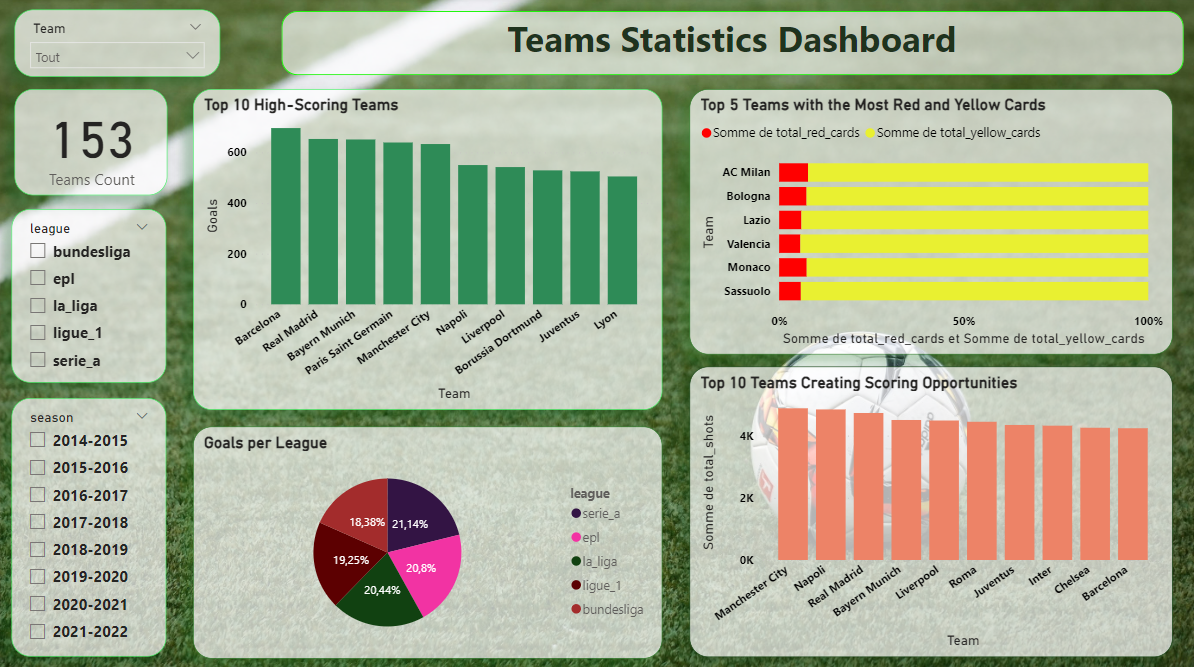

This screenshot's page, from the dashboard's own definition file:
{"tool":"powerbi","page":{"name":"Teams","canvas":[1280,720],"ordinal":1},"visuals":[{"type":"shape","box":[306,16,956,68],"z":0},{"type":"slicer","fields":{"Values":["TeamStatisticsDataMart.season"]},"box":[20,426,164,274],"z":1000},{"type":"textbox","box":[535.7,14.3,497.1,67.1],"z":2000},{"type":"slicer","fields":{"Values":["TeamStatisticsDataMart.league"]},"box":[20,226,164,184],"z":3000},{"type":"card","fields":{"Values":["TeamStatisticsDataMart.Team Counts"]},"box":[23.8,98.5,162.1,112.8],"z":4000},{"type":"clusteredColumnChart","title":"Top 10 High-Scoring Teams","fields":{"Category":["TeamStatisticsDataMart.team_title"],"Y":["Sum(TeamStatisticsDataMart.total_goals)"]},"box":[213.5,98.3,497,340.2],"z":5000},{"type":"hundredPercentStackedBarChart","title":"Top 5 Teams with the Most Red and Yellow Cards","fields":{"Category":["TeamStatisticsDataMart.Team"],"Y":["Sum(TeamStatisticsDataMart.total_red_cards)","Sum(TeamStatisticsDataMart.total_yellow_cards)"]},"box":[738.9,98.3,512.1,281.6],"z":6000},{"type":"pieChart","title":"Goals per League","fields":{"Category":["TeamStatisticsDataMart.league"],"Y":["Sum(TeamStatisticsDataMart.total_goals)"]},"box":[213.5,455.4,497,245.7],"z":7000},{"type":"clusteredColumnChart","title":"Top 10 Teams Creating Scoring Opportunities","fields":{"Category":["TeamStatisticsDataMart.Team"],"Y":["Sum(TeamStatisticsDataMart.total_shots)"]},"box":[738.9,393.1,512.1,308],"z":8000},{"type":"slicer","fields":{"Values":["TeamStatisticsDataMart.Team"]},"box":[23.8,14.3,217.7,71.5],"z":9000}]}

Visuals, with their boxes in screenshot pixels (x1, y1, x2, y2), scaled from the page's 1280x720 canvas onto the 1194x667 screenshot:
shape: box(285, 15, 1177, 78)
slicer - TeamStatisticsDataMart.season: box(19, 395, 172, 648)
textbox: box(500, 13, 963, 75)
slicer - TeamStatisticsDataMart.league: box(19, 209, 172, 380)
card - TeamStatisticsDataMart.Team Counts: box(22, 91, 173, 196)
"Top 10 High-Scoring Teams" clusteredColumnChart: box(199, 91, 663, 406)
"Top 5 Teams with the Most Red and Yellow Cards" hundredPercentStackedBarChart: box(689, 91, 1167, 352)
"Goals per League" pieChart: box(199, 422, 663, 649)
"Top 10 Teams Creating Scoring Opportunities" clusteredColumnChart: box(689, 364, 1167, 649)
slicer - TeamStatisticsDataMart.Team: box(22, 13, 225, 79)
